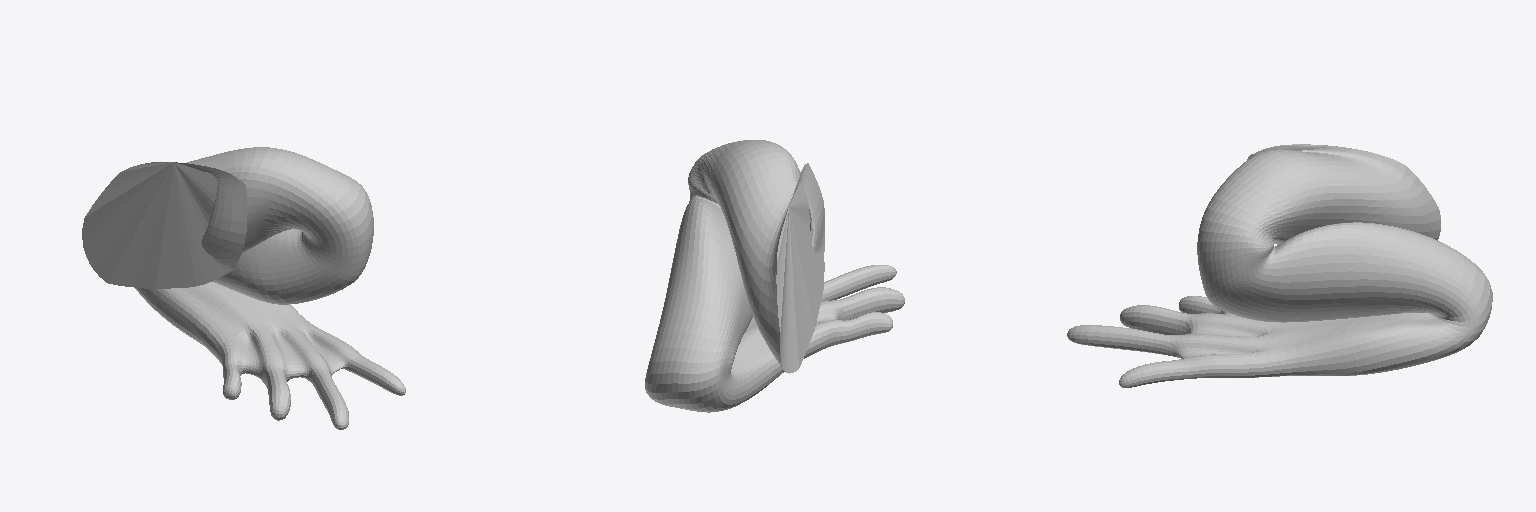
Rendered from frog-leftleg.obj.
3 views of the same model, side by side, from view 1: azimuth 30°, elevation 25°; view 2: azimuth 150°, elevation 25°; view 3: azimuth 270°, elevation 25° (orthographic).
Visible parts, largest first — view 1: frog.002; view 2: frog.002; view 3: frog.002.
Boxes of the visible parts, box(x1,y1,x2,y2) form: frog.002: box(82, 147, 405, 429); frog.002: box(645, 140, 904, 412); frog.002: box(1067, 144, 1492, 387).
Bounding box in the file's own units: 1.64 × 1.74 × 3.24.